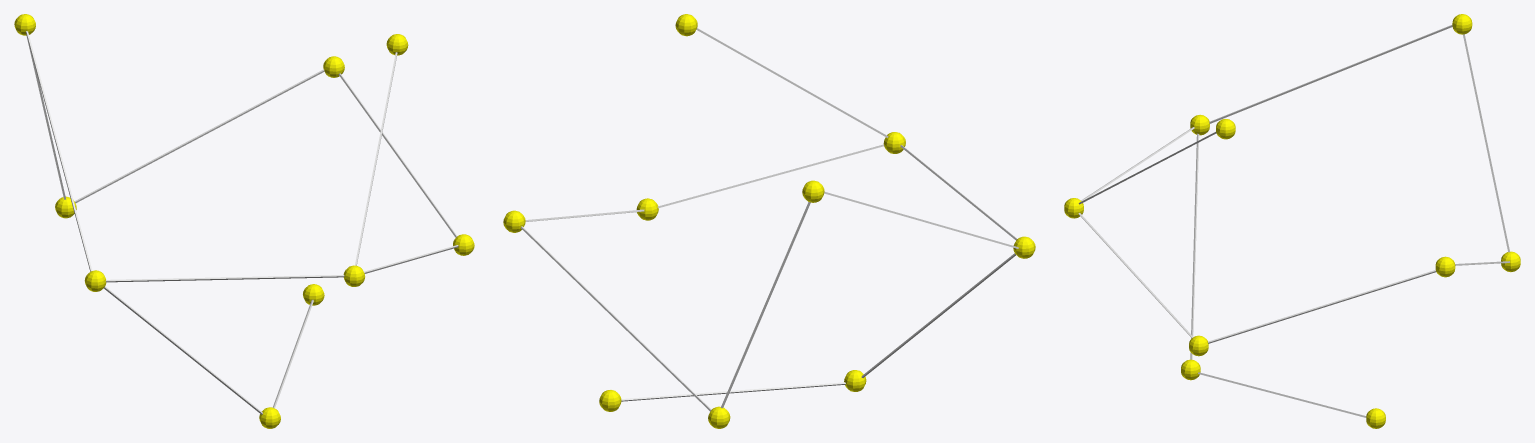
Rendered from DNA.fbx.
3 renders of one model, left to right at view 1: azimuth 30°, elevation 25°; view 2: azimuth 150°, elevation 25°; view 3: azimuth 270°, elevation 25°, orthographic. The views are drawn at different scales.
Parts seen in each view (by area): view 1: polySurface3; view 2: polySurface3; view 3: polySurface3.
Part boxes in pixels (box(x1,y1,x2,y2)): polySurface3: box(14, 14, 474, 428); polySurface3: box(503, 14, 1035, 428); polySurface3: box(1064, 14, 1520, 428).
Bounding box in the file's own units: 31.22 × 26.57 × 33.6.
